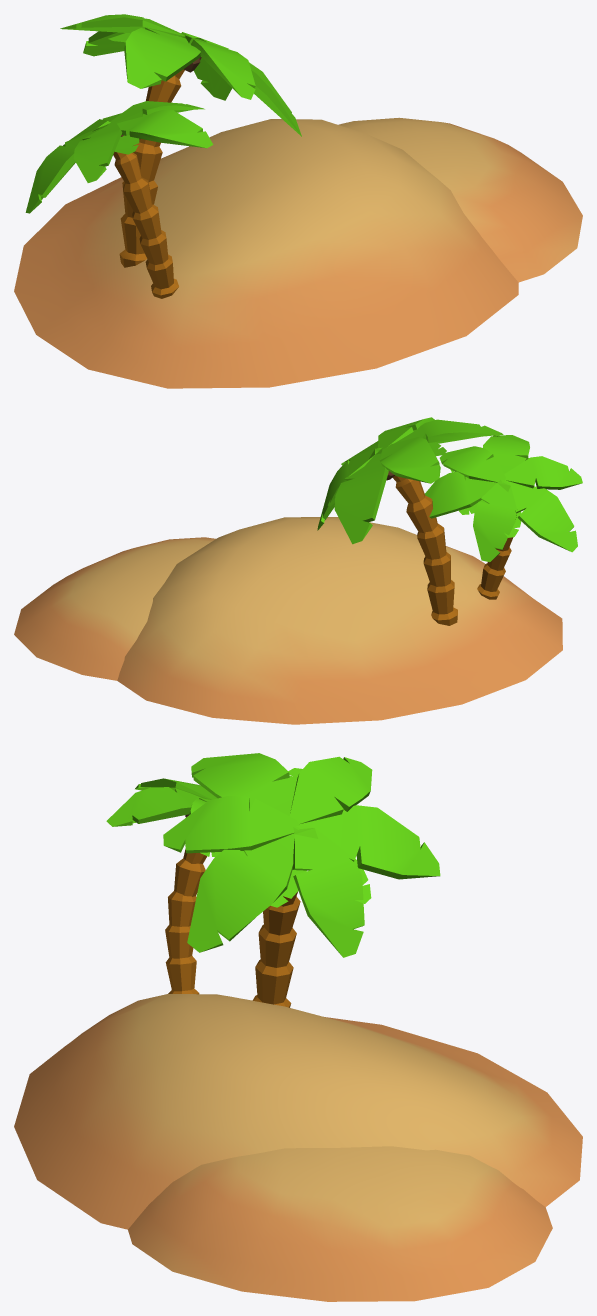
Rendered from Island1.fbx.
The picture shows the model from 3 angles, top to bottom: view 1: azimuth 30°, elevation 25°; view 2: azimuth 150°, elevation 25°; view 3: azimuth 270°, elevation 25°; orthographic projection. The views are drawn at different scales.
Visible parts, largest first — view 1: Island1; view 2: Island1; view 3: Island1.
Boxes of the visible parts, bbox=[...] form: Island1: bbox=[14, 14, 582, 388]; Island1: bbox=[14, 417, 582, 724]; Island1: bbox=[14, 753, 582, 1301].
Bounding box in the file's own units: 2.06 × 0.9372 × 1.59.
